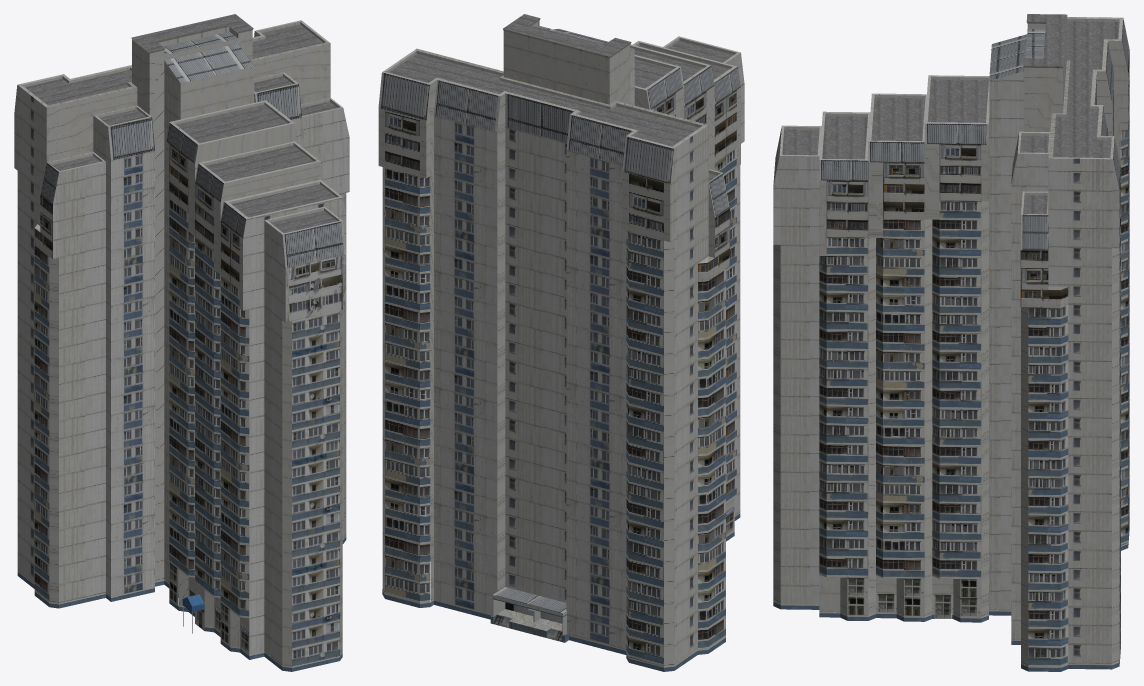
The model's file is highrise_building.glb.
3 views of the same model, side by side, from view 1: azimuth 30°, elevation 25°; view 2: azimuth 150°, elevation 25°; view 3: azimuth 270°, elevation 25° (orthographic). The views are drawn at different scales.
Visible parts, largest first — view 1: Object_6, Object_5, Object_4, Object_9, Object_11, Object_19, Object_7, Object_10, Object_8, Object_12; view 2: Object_9, Object_4, Object_6, Object_5, Object_7, Object_19, Object_10; view 3: Object_4, Object_6, Object_5, Object_19, Object_10, Object_7, Object_12.
Part boxes in pixels (left/top/right/bottom): Object_6: left=14, top=61, right=349, bottom=665; Object_5: left=17, top=20, right=346, bottom=666; Object_4: left=17, top=198, right=346, bottom=671; Object_9: left=111, top=117, right=301, bottom=596; Object_11: left=292, top=310, right=339, bottom=666; Object_19: left=25, top=14, right=337, bottom=233; Object_7: left=40, top=31, right=345, bottom=267; Object_10: left=34, top=144, right=239, bottom=289; Object_8: left=285, top=254, right=346, bottom=322; Object_12: left=169, top=562, right=249, bottom=654; Object_9: left=434, top=115, right=626, bottom=649; Object_4: left=382, top=148, right=740, bottom=671; Object_6: left=430, top=48, right=744, bottom=664; Object_5: left=378, top=18, right=740, bottom=666; Object_7: left=378, top=26, right=740, bottom=613; Object_19: left=389, top=14, right=733, bottom=181; Object_10: left=385, top=90, right=736, bottom=281; Object_4: left=773, top=110, right=1129, bottom=671; Object_6: left=773, top=71, right=1119, bottom=663; Object_5: left=773, top=14, right=1128, bottom=665; Object_19: left=782, top=14, right=1119, bottom=214; Object_10: left=826, top=54, right=1129, bottom=307; Object_7: left=773, top=18, right=1129, bottom=250; Object_12: left=847, top=577, right=981, bottom=618.
Size of the model in its own units: 47.17 by 82.6 by 47.87.
Materials: 16 (16 with a texture image).
